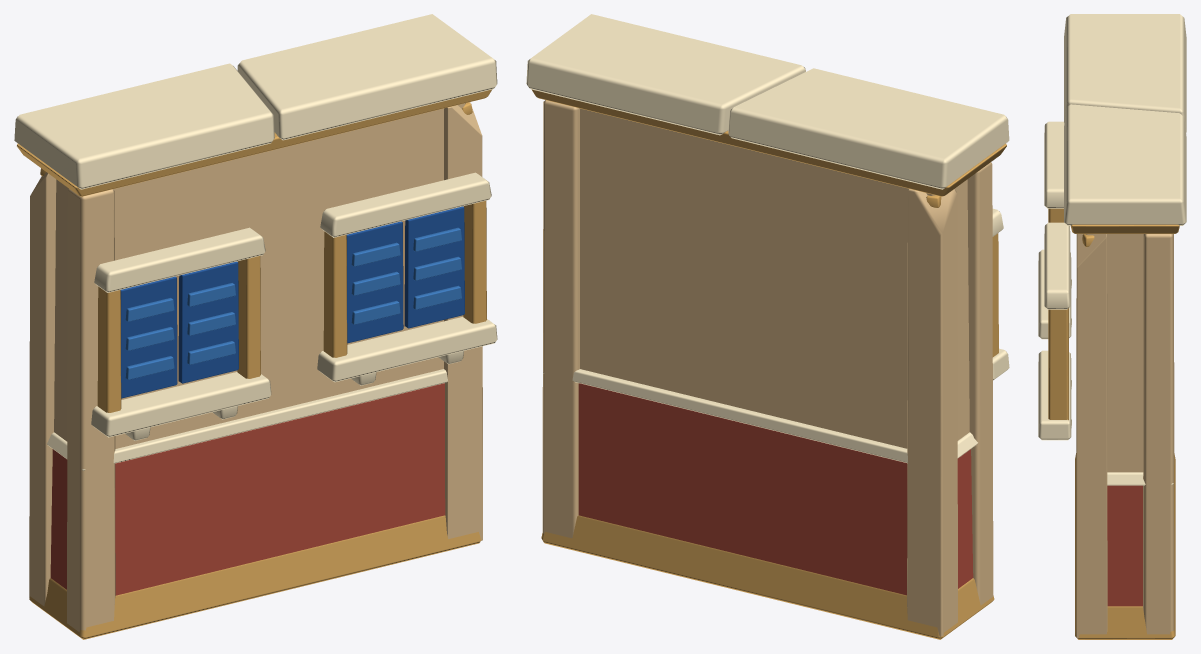
The model's file is a_cross_wall.glb.
The picture shows the model from 3 angles, left to right: view 1: azimuth 30°, elevation 25°; view 2: azimuth 150°, elevation 25°; view 3: azimuth 270°, elevation 25°; orthographic projection. The views are drawn at different scales.
Visible parts, largest first — view 1: a_cross_wall; view 2: a_cross_wall; view 3: a_cross_wall.
Part boxes in pixels (box(x1,y1,x2,y2)): a_cross_wall: box(14, 14, 497, 639); a_cross_wall: box(526, 14, 1009, 639); a_cross_wall: box(1038, 14, 1186, 639).
Size of the model in its own units: 3.21 by 3.54 by 1.07.
